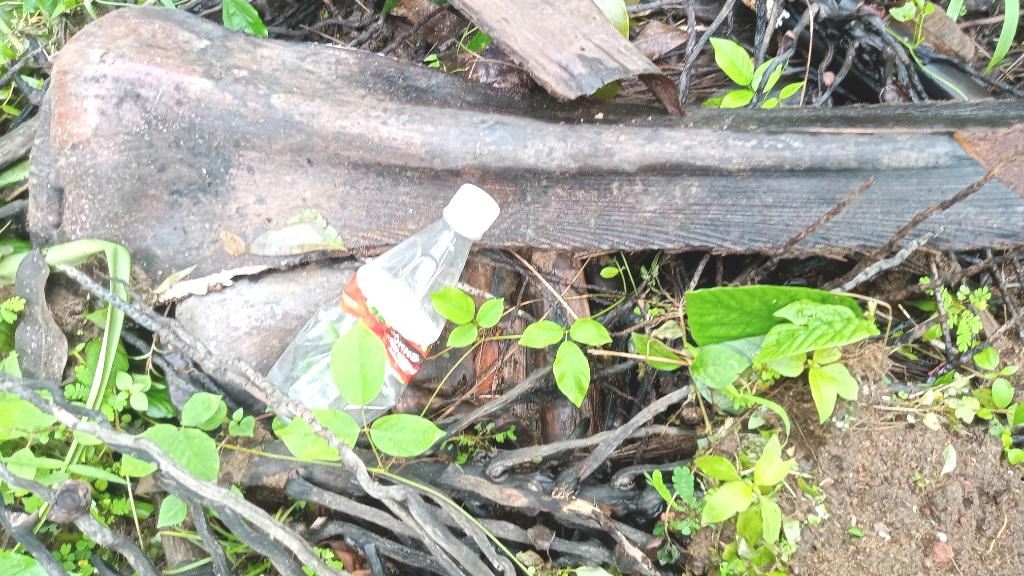garbage: (320, 150, 470, 457)
